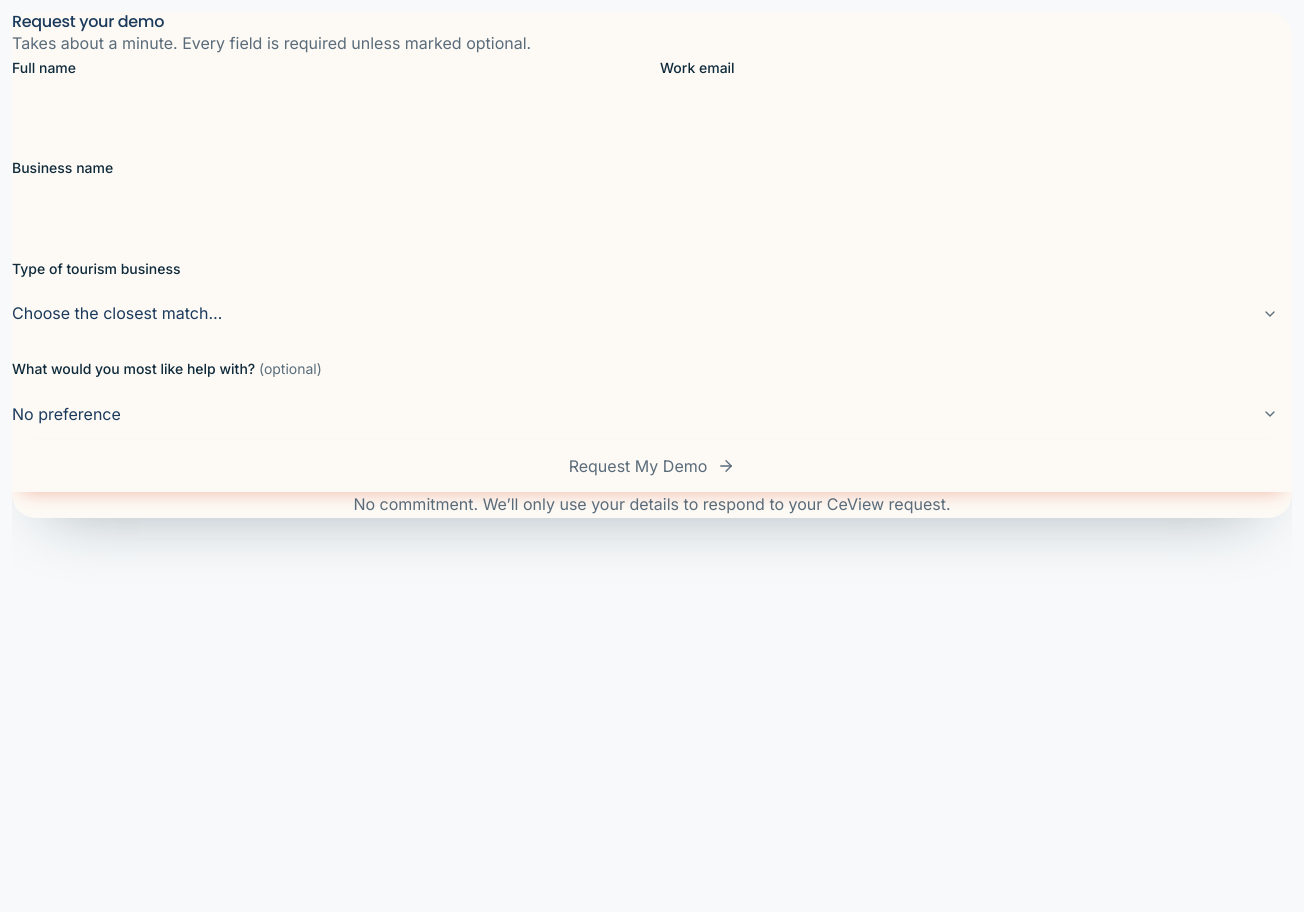
LeadForm with an endpoint configured › flags errors inline, links them to their fields and announces the count
Click the button "Request My Demo".
click(652, 466)  # box [12,440,1292,492]
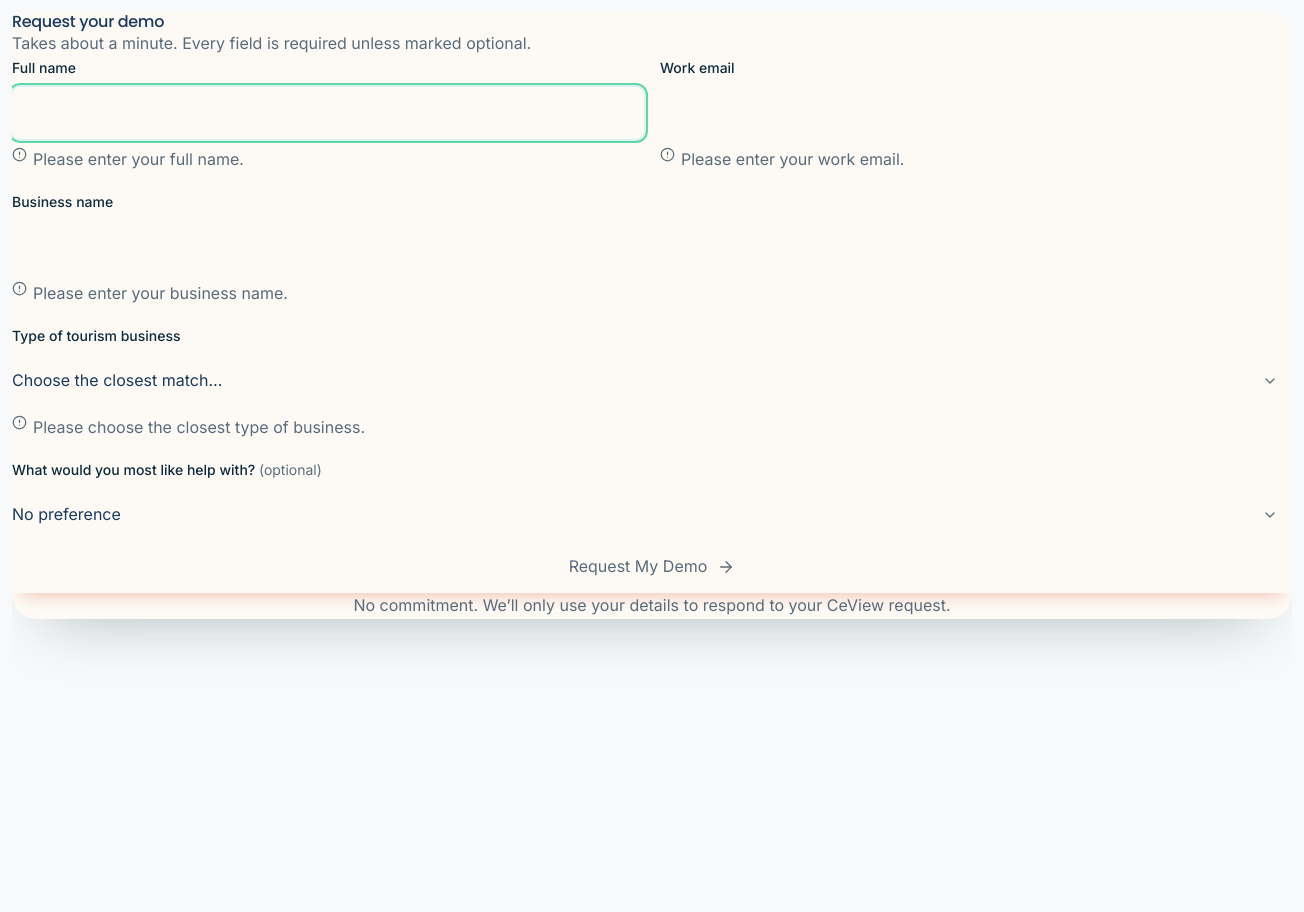
Now the element with id "lead-name-error" reads "Please enter your full name.", box [33,149,244,169]
